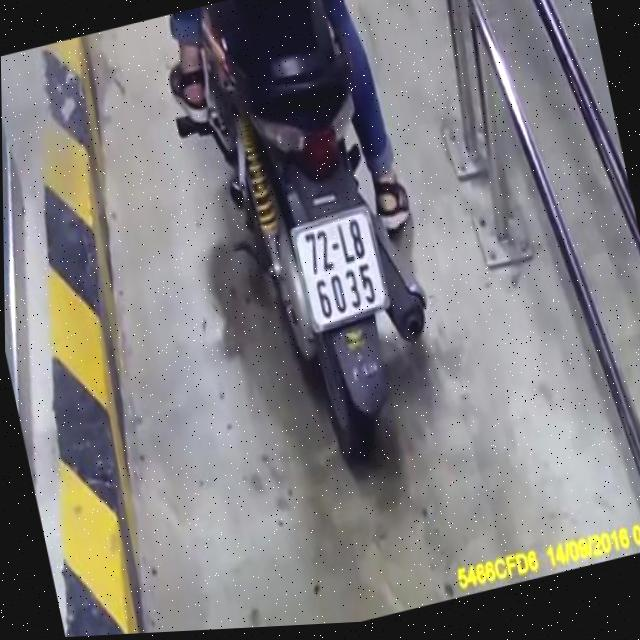motorcycle: (180, 0, 470, 505)
plate: (277, 197, 400, 341)
